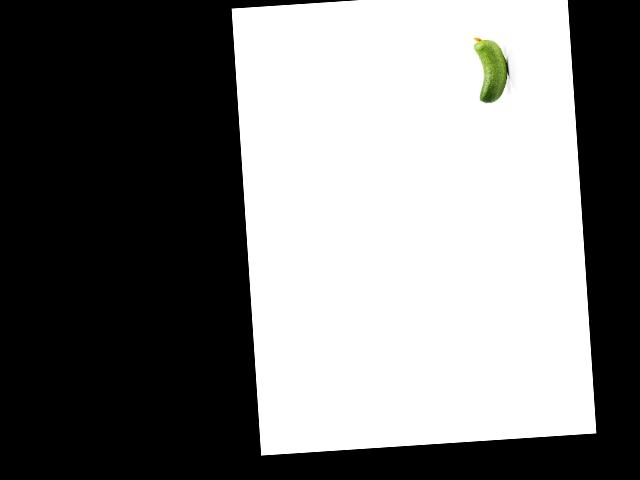cucumber: (473, 35, 510, 104)
